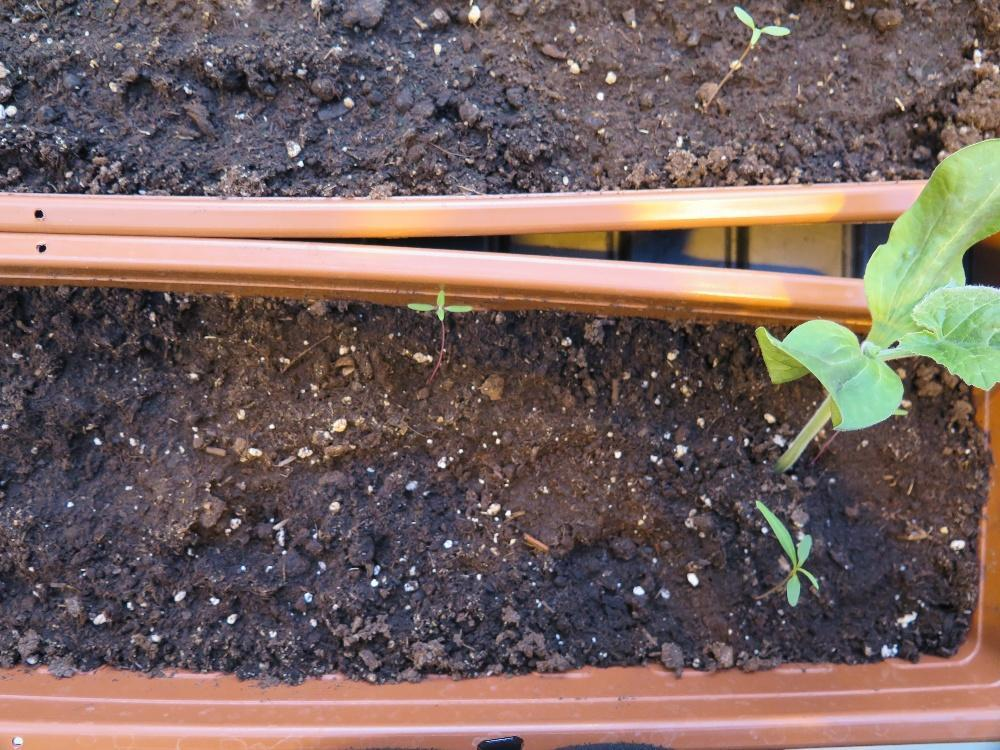weed: (753, 497, 820, 607), (732, 4, 790, 45), (405, 287, 472, 320)
